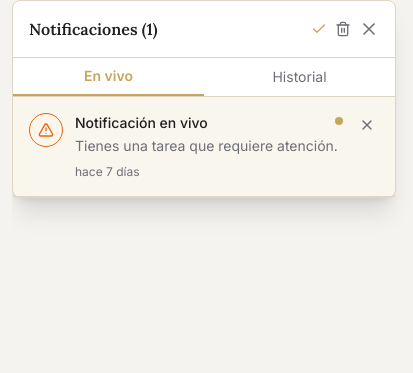
Test: NotificationPanel read boundary › keeps unread notifications in En vivo and renders only read entries in Historial
The width and height of the screenshot is (413, 373).
Expected: the text "Notificación en vivo" is shown, [75,113,208,132]
Click the button "Historial".
click(300, 77)  # box [204,58,395,96]
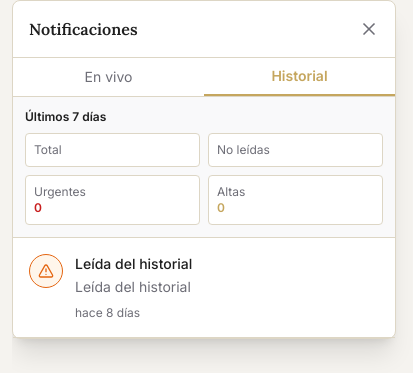
Now the 1st text "Leída del historial" is shown, box [75,254,192,273]
